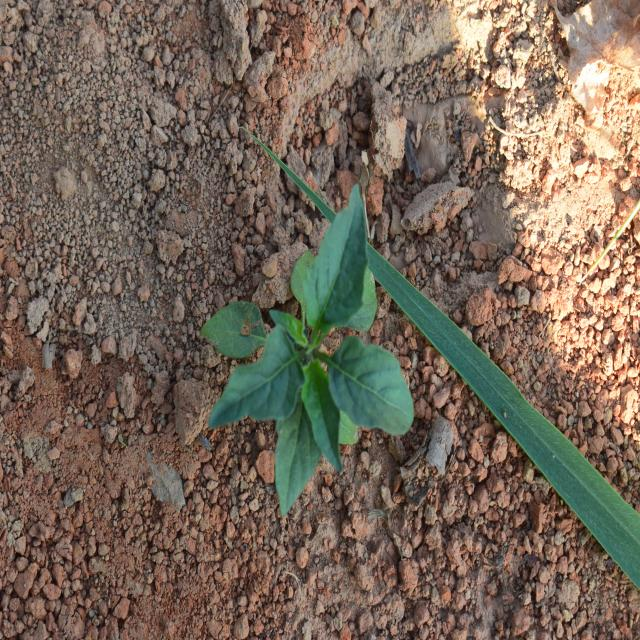Black_nightshade: (208, 174, 397, 483)
